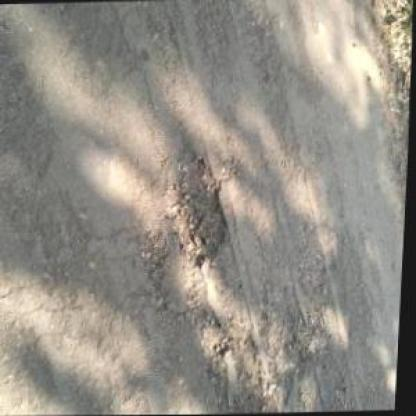pothole: (168, 147, 234, 268)
